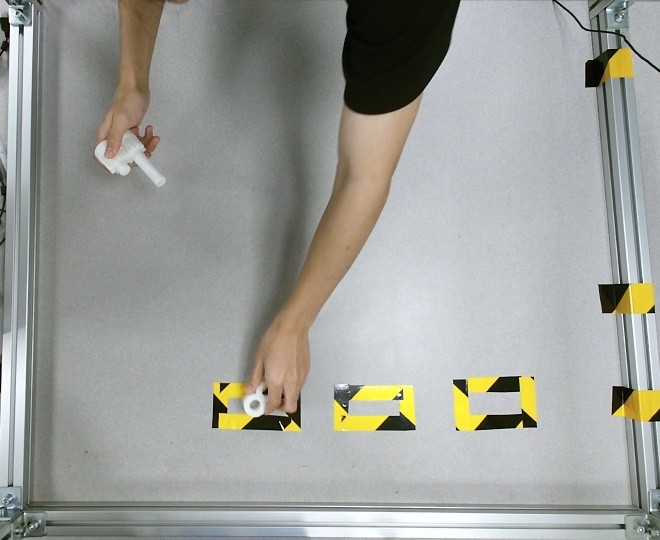stage_3: (96, 126, 166, 190)
